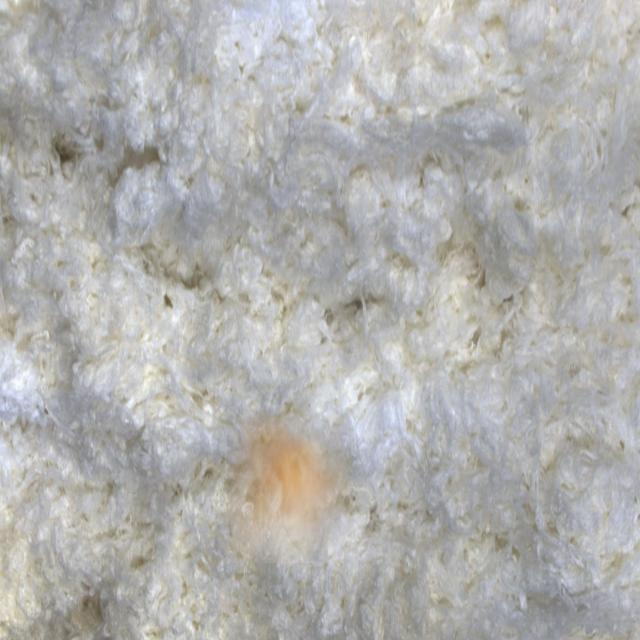dust: (227, 406, 351, 564)
